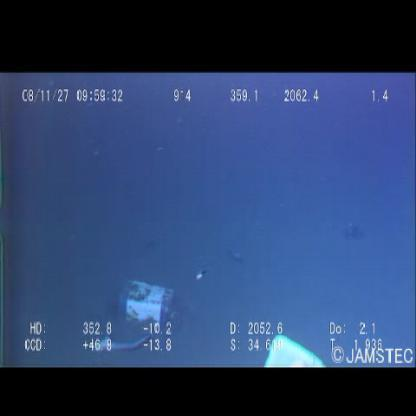Rác: (95, 282, 181, 352)
